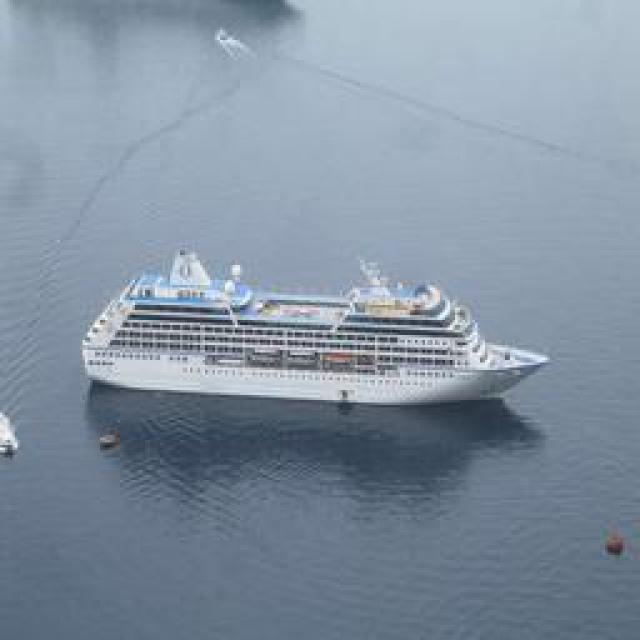Ship: (85, 241, 545, 411)
